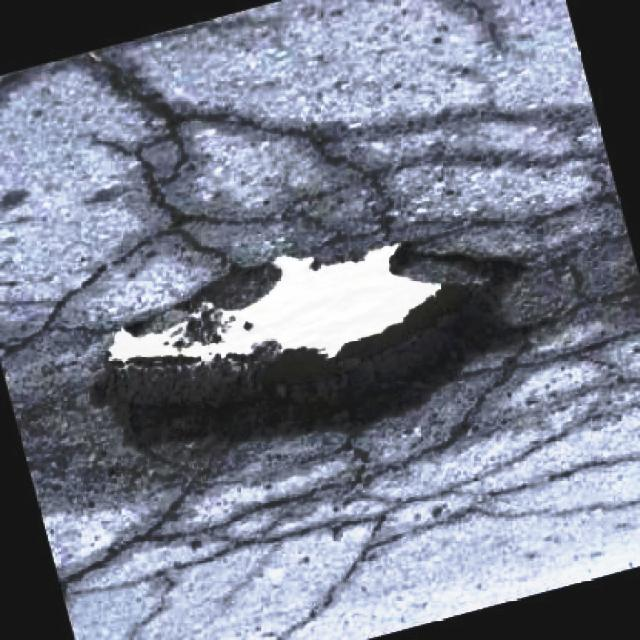pothole: (96, 234, 542, 469)
